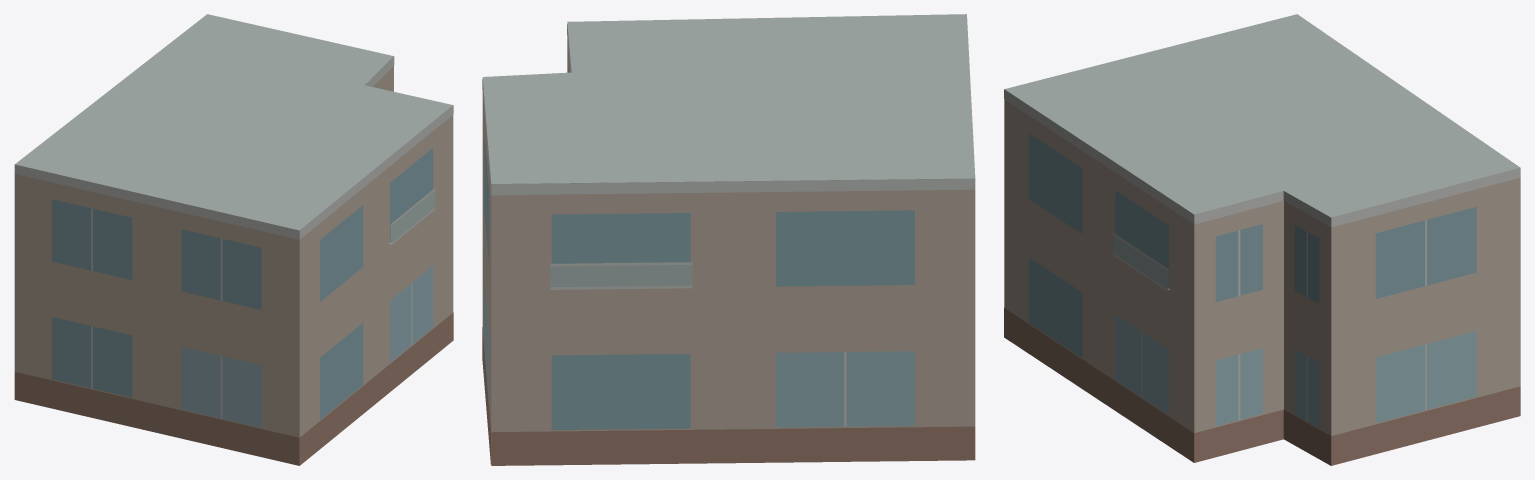
Rendered from survey-upis-33011923.glb.
3 renders of one model, left to right at view 1: azimuth 30°, elevation 25°; view 2: azimuth 150°, elevation 25°; view 3: azimuth 270°, elevation 25°, orthographic. The views are drawn at different scales.
Parts seen in each view (by area): view 1: survey-upis-33011923.tmp; view 2: survey-upis-33011923.tmp; view 3: survey-upis-33011923.tmp.
Part boxes in pixels (box(x1,y1,x2,y2)): survey-upis-33011923.tmp: box(14, 14, 453, 465); survey-upis-33011923.tmp: box(482, 14, 975, 465); survey-upis-33011923.tmp: box(1004, 14, 1520, 465).
Bounding box in the file's own units: 10.74 × 6.1 × 11.51.
